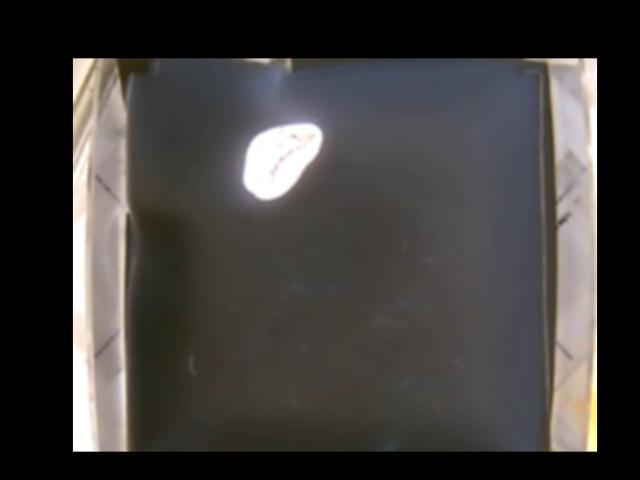Pebble: (240, 121, 322, 202)
